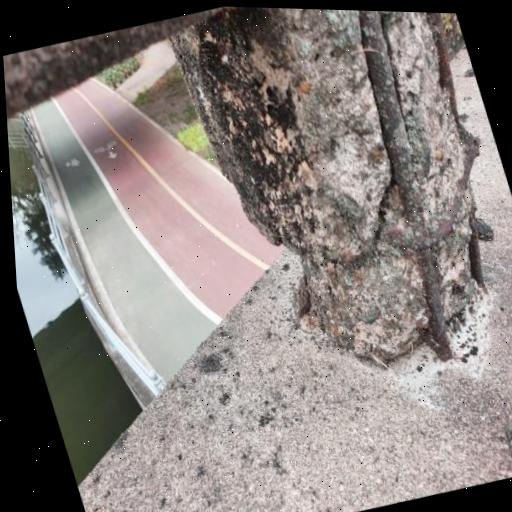exposed_rebar: (358, 11, 424, 231), (384, 123, 480, 249), (419, 243, 452, 360), (427, 13, 460, 125), (469, 207, 488, 293)
